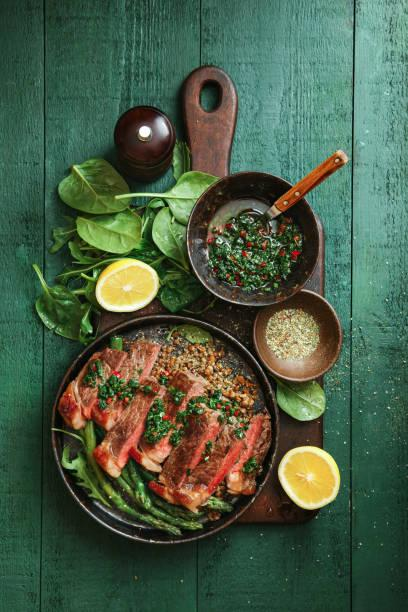Braised Crucian Carp: (50, 315, 275, 541), (184, 171, 321, 307)
